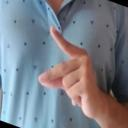hand: (38, 25, 99, 120)
